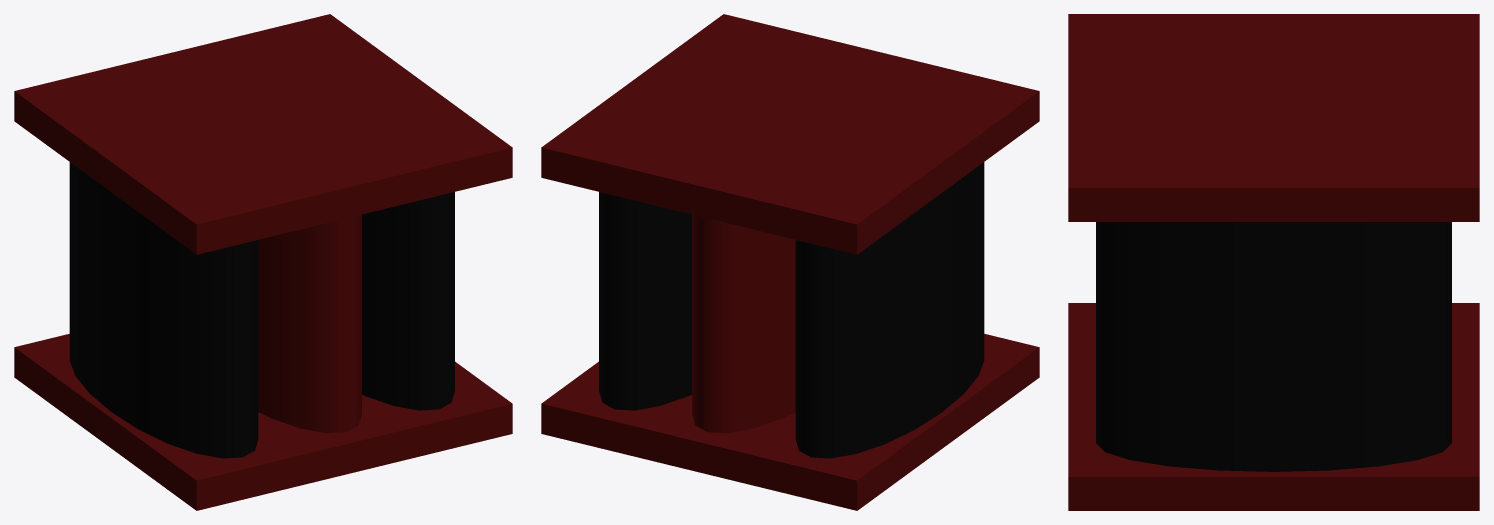
File: municionmina.fbx
The picture shows the model from 3 angles, left to right: view 1: azimuth 30°, elevation 25°; view 2: azimuth 150°, elevation 25°; view 3: azimuth 270°, elevation 25°; orthographic projection. The views are drawn at different scales.
Parts seen in each view (by area): view 1: municionmina, Cylinder, Cube__1_, Cylinder__1_, Cylinder__2_; view 2: municionmina, Cylinder, Cube__1_, Cylinder__1_, Cylinder__2_; view 3: Cylinder__2_, municionmina, Cube__1_.
Boxes of the visible parts, x1,y1,x2,y2 form: municionmina: [14, 14, 512, 254]; Cylinder: [69, 162, 258, 458]; Cube__1_: [14, 334, 512, 510]; Cylinder__1_: [258, 214, 361, 433]; Cylinder__2_: [362, 192, 454, 410]; municionmina: [541, 14, 1039, 254]; Cylinder: [795, 162, 984, 458]; Cube__1_: [541, 334, 1039, 510]; Cylinder__1_: [692, 214, 795, 433]; Cylinder__2_: [599, 192, 691, 410]; Cylinder__2_: [1096, 222, 1451, 471]; municionmina: [1068, 14, 1479, 221]; Cube__1_: [1068, 303, 1479, 510].
Bounding box in the file's own units: 262 × 227 × 262.
